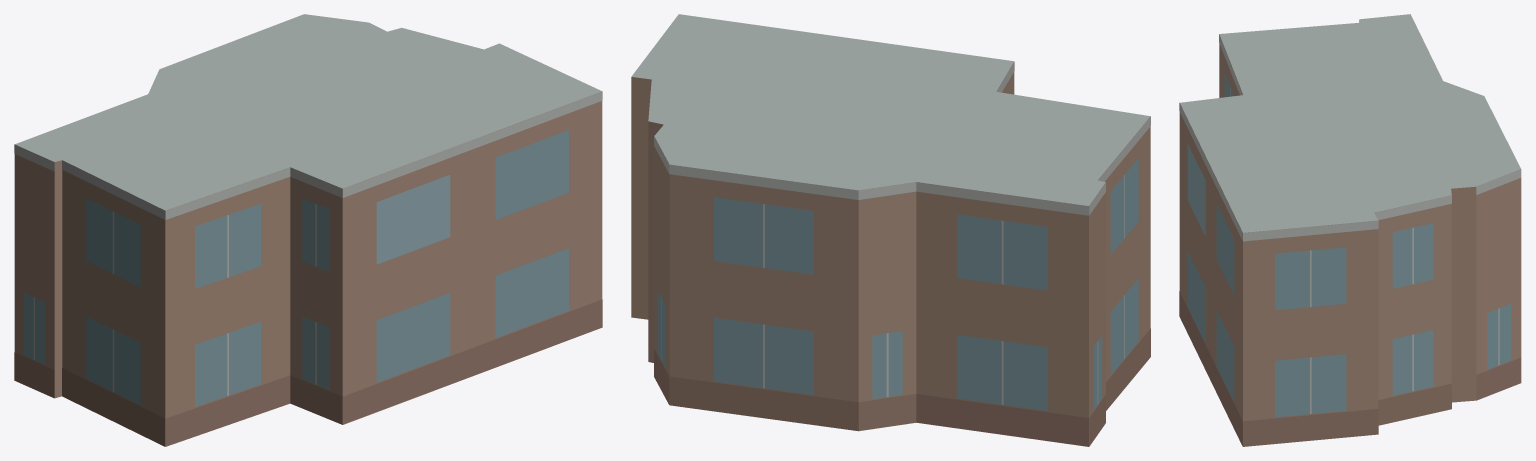
Rendered from survey-upis-32462501.glb.
3 views of the same model, side by side, from view 1: azimuth 30°, elevation 25°; view 2: azimuth 150°, elevation 25°; view 3: azimuth 270°, elevation 25° (orthographic). The views are drawn at different scales.
Visible parts, largest first — view 1: survey-upis-32462501.tmp; view 2: survey-upis-32462501.tmp; view 3: survey-upis-32462501.tmp.
Part boxes in pixels (bbox=[...]): survey-upis-32462501.tmp: bbox=[14, 14, 602, 446]; survey-upis-32462501.tmp: bbox=[631, 14, 1150, 446]; survey-upis-32462501.tmp: bbox=[1179, 14, 1521, 446].
Bounding box in the file's own units: 13.4 × 6.1 × 8.84.
